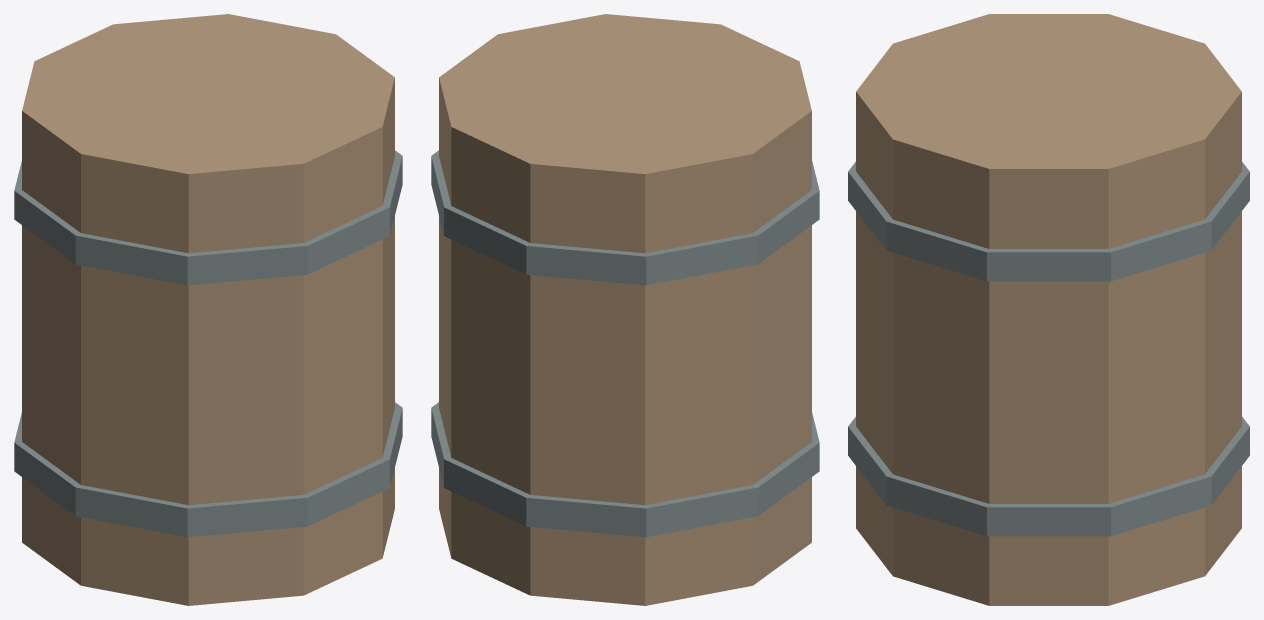
The model's file is barrel.glb.
The picture shows the model from 3 angles, left to right: view 1: azimuth 30°, elevation 25°; view 2: azimuth 150°, elevation 25°; view 3: azimuth 270°, elevation 25°; orthographic projection.
Visible parts, largest first — view 1: barrel_MAT_wood, barrel_MAT_iron; view 2: barrel_MAT_wood, barrel_MAT_iron; view 3: barrel_MAT_wood, barrel_MAT_iron.
Boxes of the visible parts, x1,y1,x2,y2 form: barrel_MAT_wood: (22, 14, 394, 605); barrel_MAT_iron: (14, 150, 402, 537); barrel_MAT_wood: (439, 14, 811, 605); barrel_MAT_iron: (431, 150, 819, 537); barrel_MAT_wood: (856, 14, 1241, 605); barrel_MAT_iron: (848, 162, 1249, 536).
Size of the model in its own units: 0.4755 by 0.6 by 0.5.
